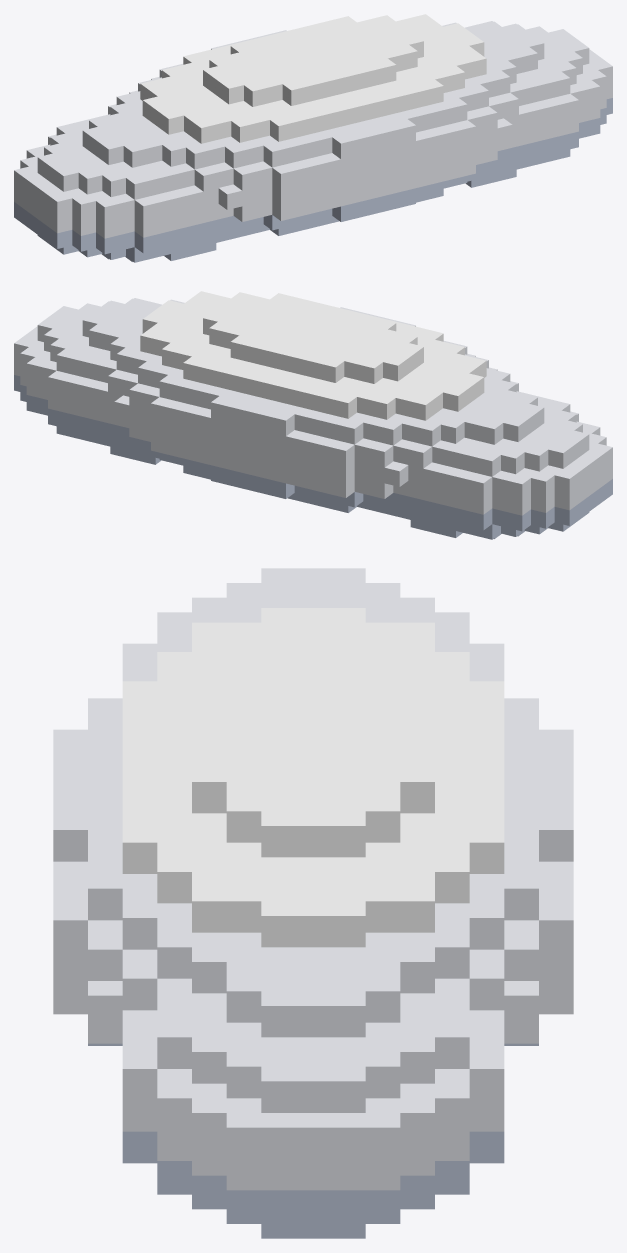
The model's file is nube.obj.
3 views of the same model, one above another, from view 1: azimuth 30°, elevation 25°; view 2: azimuth 150°, elevation 25°; view 3: azimuth 270°, elevation 25° (orthographic). The views are drawn at different scales.
Size of the model in its own units: 37 by 9 by 15.
